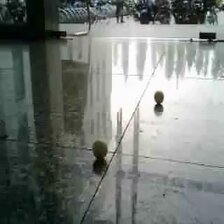w: (92, 140, 109, 159), (154, 90, 165, 104)
